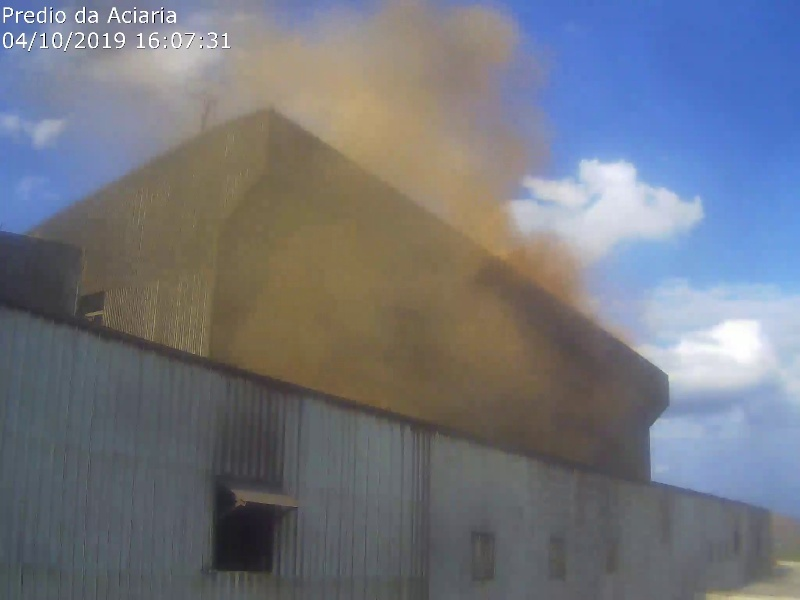pessimo: (239, 16, 572, 438)
